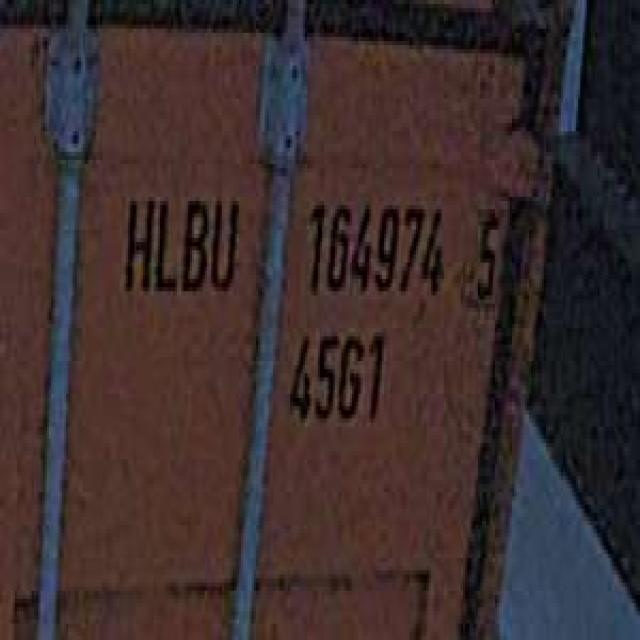dv: (465, 192, 505, 309)
owner: (117, 176, 241, 308)
serial: (303, 184, 446, 304)
size: (284, 316, 388, 435)
